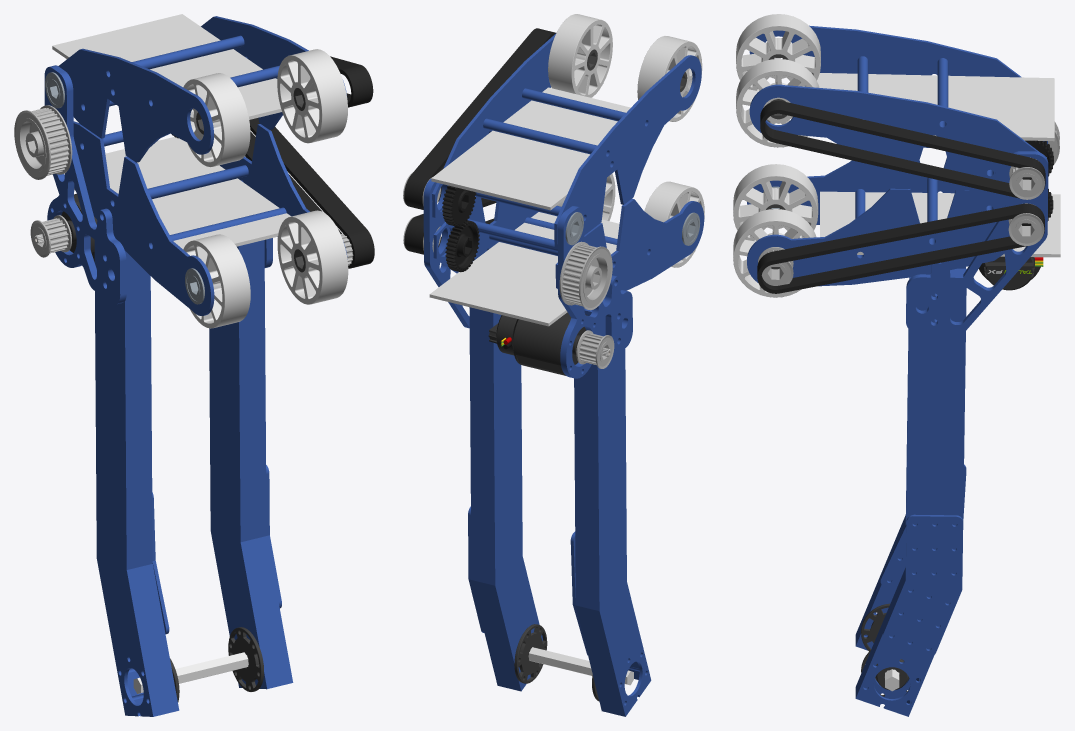
3 renders of one model, left to right at view 1: azimuth 30°, elevation 25°; view 2: azimuth 150°, elevation 25°; view 3: azimuth 270°, elevation 25°, orthographic. The views are drawn at different scales.
Visible parts, largest first — view 1: Part 7 (×2), am-3946 3IN 500Hex Molded Compliant Wheel VER 2 (×4), Part 8 (×2), Part 9 (×2), Part 1 (×2), Part 2 (×2), Part 3, intake bekt (×2), 36t 15mm Wide 1/2" Hex Bore Double Flange 5mm HTD Aluminum P, Part 4 (×2), Part 6 (×2), 1/2" Hex Bore Aluminum Versahub (217-2592) (+2 smaller); view 2: Part 7 (×2), Part 8 (×2), Part 1 (×2), Part 9 (×2), am-3946 3IN 500Hex Molded Compliant Wheel VER 2 (×4), Part 2 (×2), intake bekt (×2), Part 3, Falcon 500 (V1/2), 36t 15mm Wide 1/2" Hex Bore Double Flange 5mm HTD Aluminum P, 36T 20DP Steel - 1/2" Hex Bore Gear (REV-21-1929) (×2), Part 6 (×2) (+5 smaller); view 3: Part 1 (×2), intake bekt (×2), am-3946 3IN 500Hex Molded Compliant Wheel VER 2 (×4), Part 2 (×2), Part 7, Part 8 (×2), arm connector (×2), w/o motor, Part 9 (×2), 18t 15mm Wide 1/2" Hex Bore Double Flange 5mm HTD Aluminum P (×3), Falcon 500 (V1/2), 1/2" Hex Bore Aluminum Versahub (217-2592) (+1 smaller).
Part boxes in pixels (x1=…): Part 7 (×2): x1=94, y1=240, x2=266, y2=569; am-3946 3IN 500Hex Molded Compliant Wheel VER 2 (×4): x1=183, y1=49, x2=348, y2=328; Part 8 (×2): x1=52, y1=14, x2=290, y2=249; Part 9 (×2): x1=97, y1=531, x2=293, y2=716; Part 1 (×2): x1=58, y1=16, x2=347, y2=162; Part 2 (×2): x1=73, y1=121, x2=347, y2=315; Part 3: x1=44, y1=65, x2=126, y2=304; intake bekt (×2): x1=245, y1=56, x2=374, y2=268; 36t 15mm Wide 1/2" Hex Bore Double Flange 5mm HTD Aluminum P: x1=14, y1=105, x2=72, y2=179; Part 4 (×2): x1=133, y1=165, x2=248, y2=693; Part 6 (×2): x1=132, y1=35, x2=286, y2=240; 1/2" Hex Bore Aluminum Versahub (217-2592): x1=228, y1=627, x2=263, y2=691; Part 7 (×2): x1=469, y1=299, x2=626, y2=610; Part 8 (×2): x1=429, y1=87, x2=630, y2=326; Part 1 (×2): x1=432, y1=33, x2=701, y2=247; Part 9 (×2): x1=471, y1=556, x2=651, y2=716; am-3946 3IN 500Hex Molded Compliant Wheel VER 2 (×4): x1=548, y1=14, x2=704, y2=267; Part 2 (×2): x1=433, y1=196, x2=704, y2=298; intake bekt (×2): x1=404, y1=28, x2=555, y2=254; Part 3: x1=557, y1=206, x2=632, y2=378; Falcon 500 (V1/2): x1=488, y1=312, x2=587, y2=375; 36t 15mm Wide 1/2" Hex Bore Double Flange 5mm HTD Aluminum P: x1=559, y1=241, x2=612, y2=310; 36T 20DP Steel - 1/2" Hex Bore Gear (REV-21-1929) (×2): x1=442, y1=185, x2=479, y2=272; Part 6 (×2): x1=483, y1=88, x2=625, y2=154; Part 1 (×2): x1=749, y1=25, x2=1046, y2=190; intake bekt (×2): x1=757, y1=101, x2=1045, y2=293; am-3946 3IN 500Hex Molded Compliant Wheel VER 2 (×4): x1=733, y1=14, x2=820, y2=297; Part 2 (×2): x1=747, y1=141, x2=1044, y2=286; Part 7: x1=905, y1=268, x2=966, y2=577; Part 8 (×2): x1=817, y1=73, x2=1060, y2=257; arm connector (×2): x1=880, y1=464, x2=966, y2=656; w/o motor: x1=906, y1=151, x2=1048, y2=334; Part 9 (×2): x1=855, y1=515, x2=950, y2=716; 18t 15mm Wide 1/2" Hex Bore Double Flange 5mm HTD Aluminum P (×3): x1=758, y1=157, x2=1044, y2=285; Falcon 500 (V1/2): x1=979, y1=256, x2=1043, y2=290; 1/2" Hex Bore Aluminum Versahub (217-2592): x1=861, y1=603, x2=889, y2=651.
Bounding box in the file's own units: 0.2013 × 0.636 × 0.2938.
